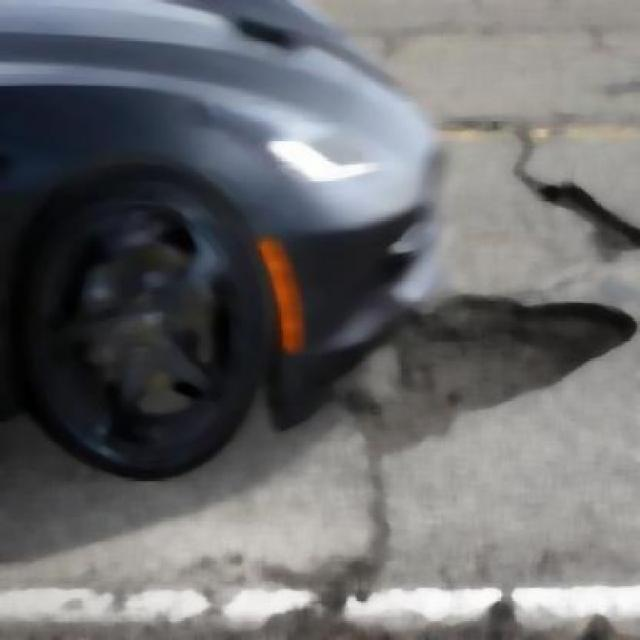Pothole: (334, 295, 636, 453), (520, 170, 640, 261)
